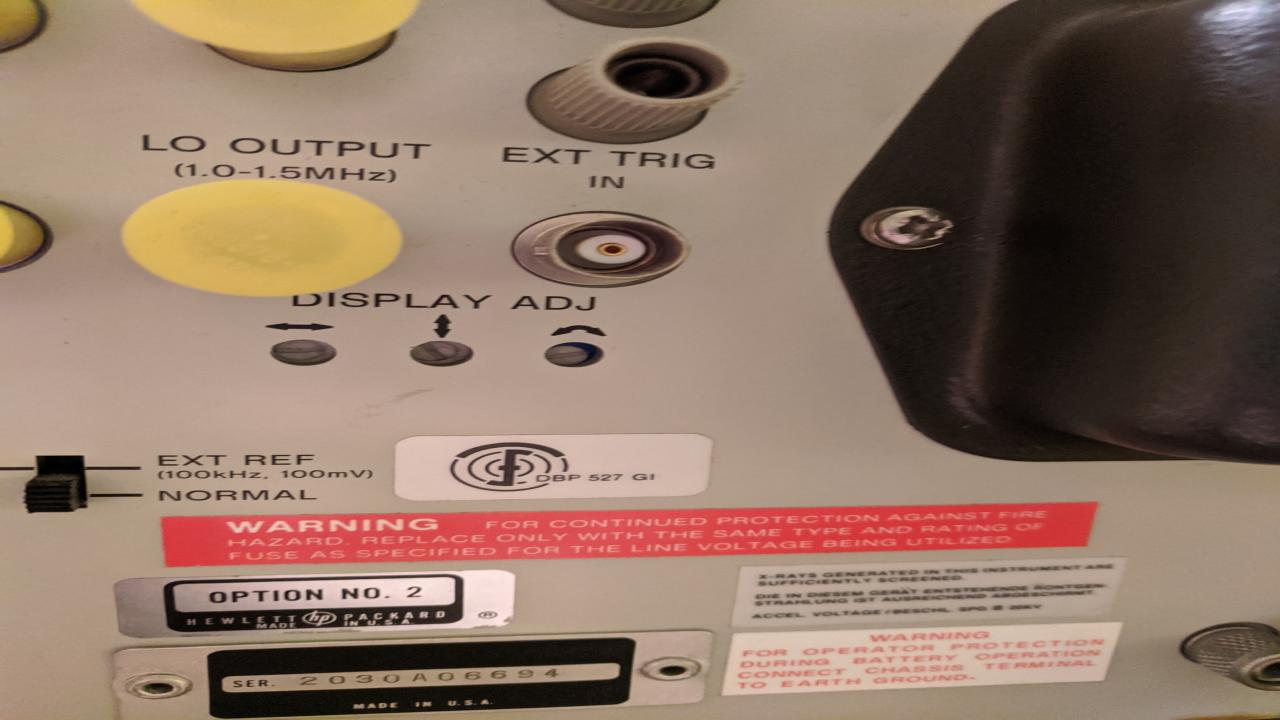CRS: (869, 206, 958, 249)
